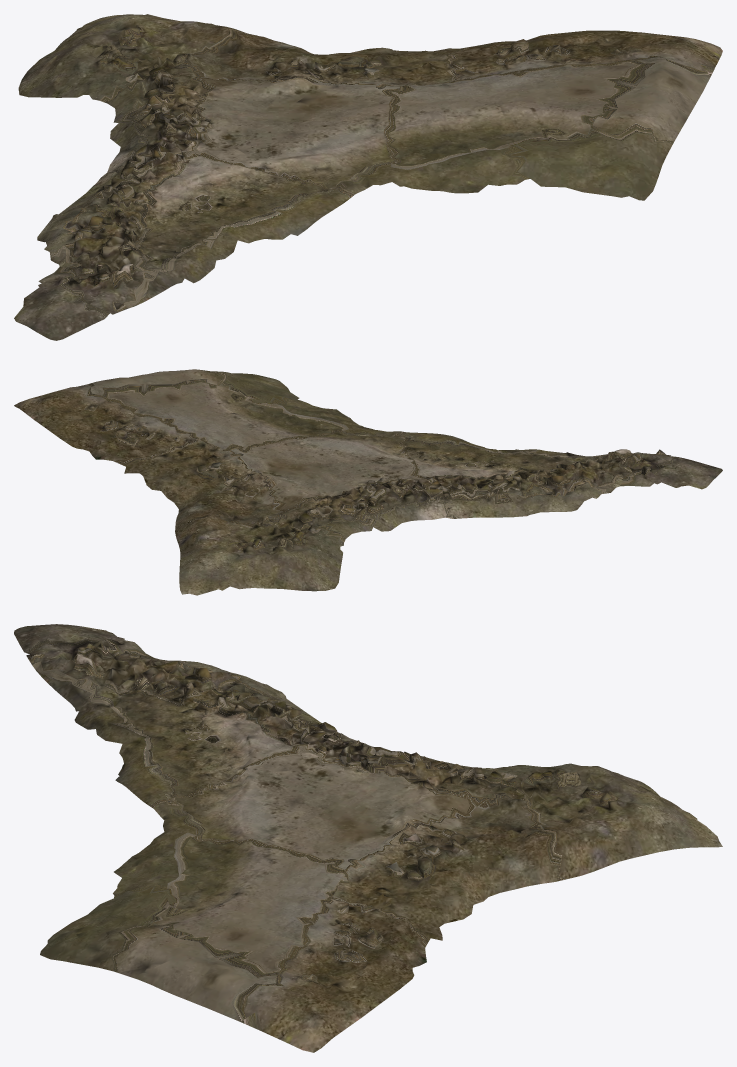
The model's file is coast_rocks_01_lod1.glb.
3 renders of one model, top to bottom at view 1: azimuth 30°, elevation 25°; view 2: azimuth 150°, elevation 25°; view 3: azimuth 270°, elevation 25°, orthographic. The views are drawn at different scales.
Visible parts, largest first — view 1: coast_rocks_01; view 2: coast_rocks_01; view 3: coast_rocks_01.
Part boxes in pixels (x1,y1,x2,y2): coast_rocks_01: [14, 14, 722, 340]; coast_rocks_01: [14, 369, 722, 595]; coast_rocks_01: [14, 624, 722, 1052].
Size of the model in its own units: 59.51 by 3.28 by 42.51.
1 material, 1 textured.
